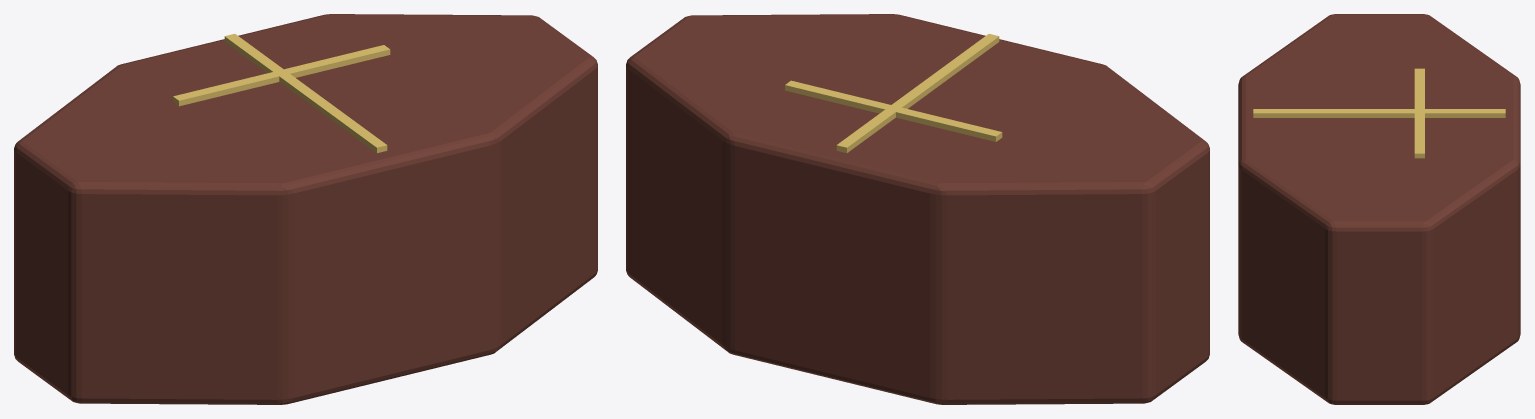
The model's file is low_table_coffin_coffee.glb.
3 renders of one model, left to right at view 1: azimuth 30°, elevation 25°; view 2: azimuth 150°, elevation 25°; view 3: azimuth 270°, elevation 25°, orthographic. The views are drawn at different scales.
Visible parts, largest first — view 1: GD_low_table_coffin_coffee__m0, GD_low_table_coffin_coffee__m1; view 2: GD_low_table_coffin_coffee__m0, GD_low_table_coffin_coffee__m1; view 3: GD_low_table_coffin_coffee__m0, GD_low_table_coffin_coffee__m1.
Part boxes in pixels (bbox=[...]): GD_low_table_coffin_coffee__m0: bbox=[14, 14, 597, 404]; GD_low_table_coffin_coffee__m1: bbox=[173, 33, 390, 152]; GD_low_table_coffin_coffee__m0: bbox=[626, 14, 1209, 404]; GD_low_table_coffin_coffee__m1: bbox=[785, 33, 1002, 152]; GD_low_table_coffin_coffee__m0: bbox=[1238, 14, 1520, 404]; GD_low_table_coffin_coffee__m1: bbox=[1253, 68, 1505, 158].
Bounding box in the file's own units: 1 × 0.415 × 0.56.
